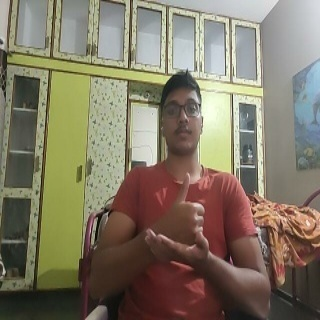Face: (159, 71, 204, 158)
Help: (142, 170, 211, 271)
